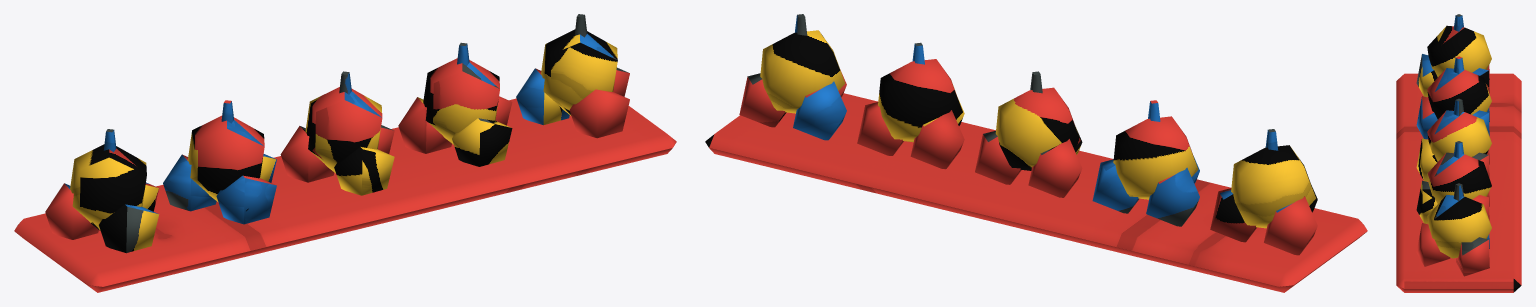
Rendered from crop-row.fbx.
3 views of the same model, side by side, from view 1: azimuth 30°, elevation 25°; view 2: azimuth 150°, elevation 25°; view 3: azimuth 270°, elevation 25° (orthographic). The views are drawn at different scales.
Parts seen in each view (by area): view 1: crop-row; view 2: crop-row; view 3: crop-row.
Part boxes in pixels (left/top/right/bottom): crop-row: left=14, top=14, right=676, bottom=292; crop-row: left=705, top=14, right=1367, bottom=292; crop-row: left=1396, top=14, right=1521, bottom=292.
Bounding box in the file's own units: 2000 × 400 × 500.
